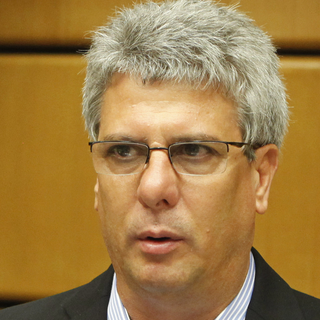eye: (102, 139, 145, 164), (174, 140, 220, 163)
